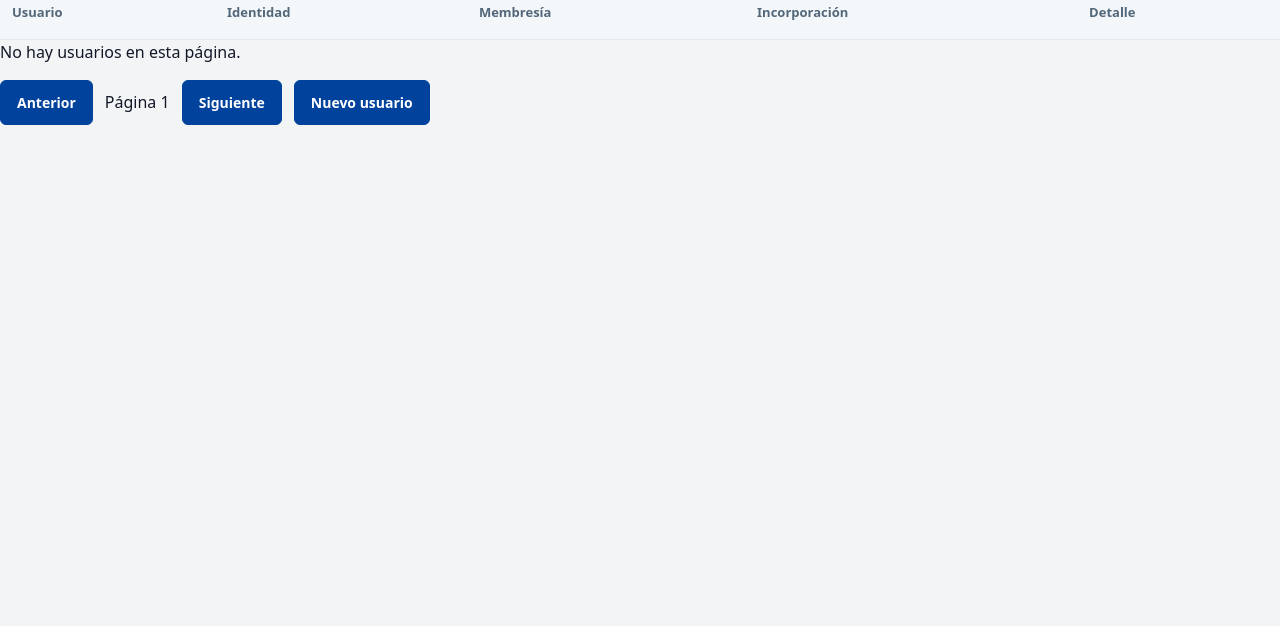
it: discards a late secret when the page was hidden during the command
Step 1. Click the button "Nuevo usuario" → (362, 102), box left=294, top=80, right=430, bottom=125
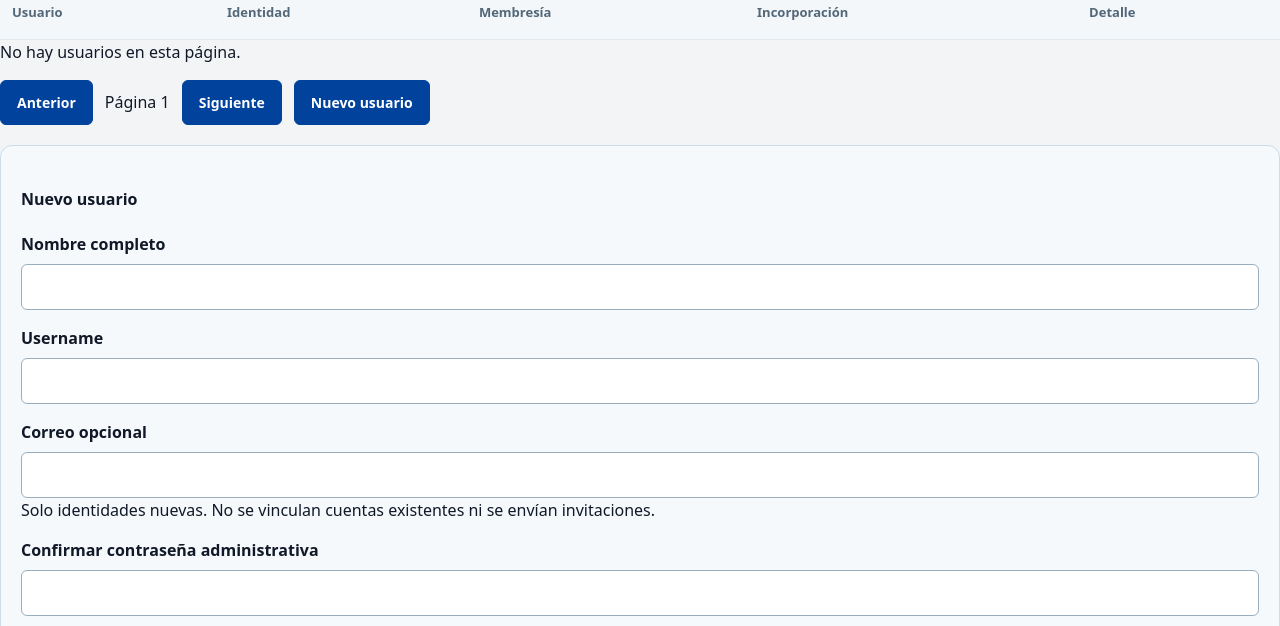
Step 2. Type "Persona nueva" into the field labelled "Nombre completo" → (640, 287), box left=21, top=264, right=1259, bottom=310
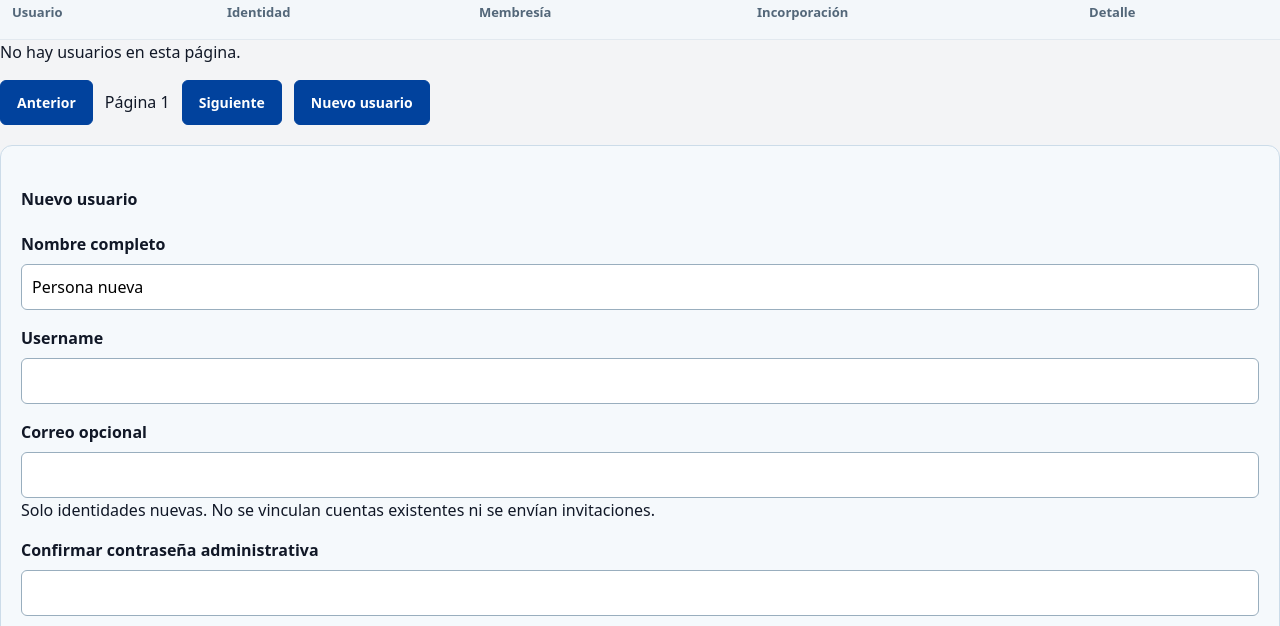
Step 3. Type "nuevo" into the field labelled "Username" → (640, 381), box left=21, top=358, right=1259, bottom=404
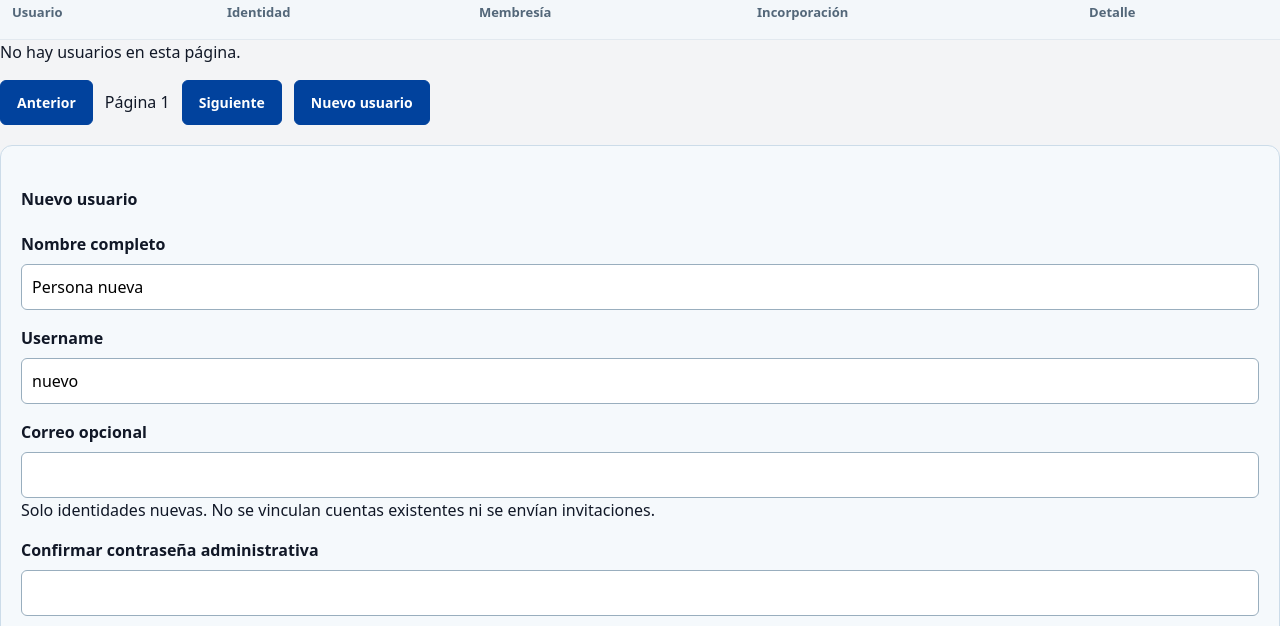
Step 4. Type "Fresh-admin-46!" into the password field labelled "Confirmar contraseña administrativa" → (640, 593), box left=21, top=570, right=1259, bottom=616
(page scrolled)
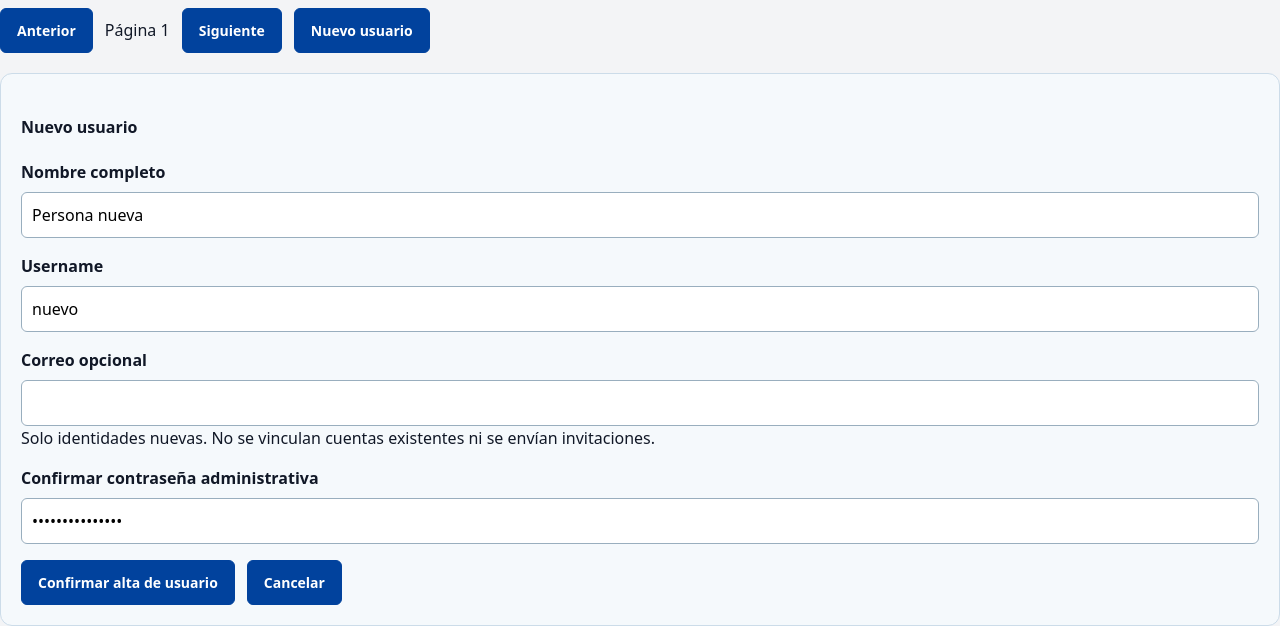
Step 5. Click the button "Confirmar alta de usuario" → (128, 583), box left=21, top=560, right=235, bottom=605
(page scrolled)
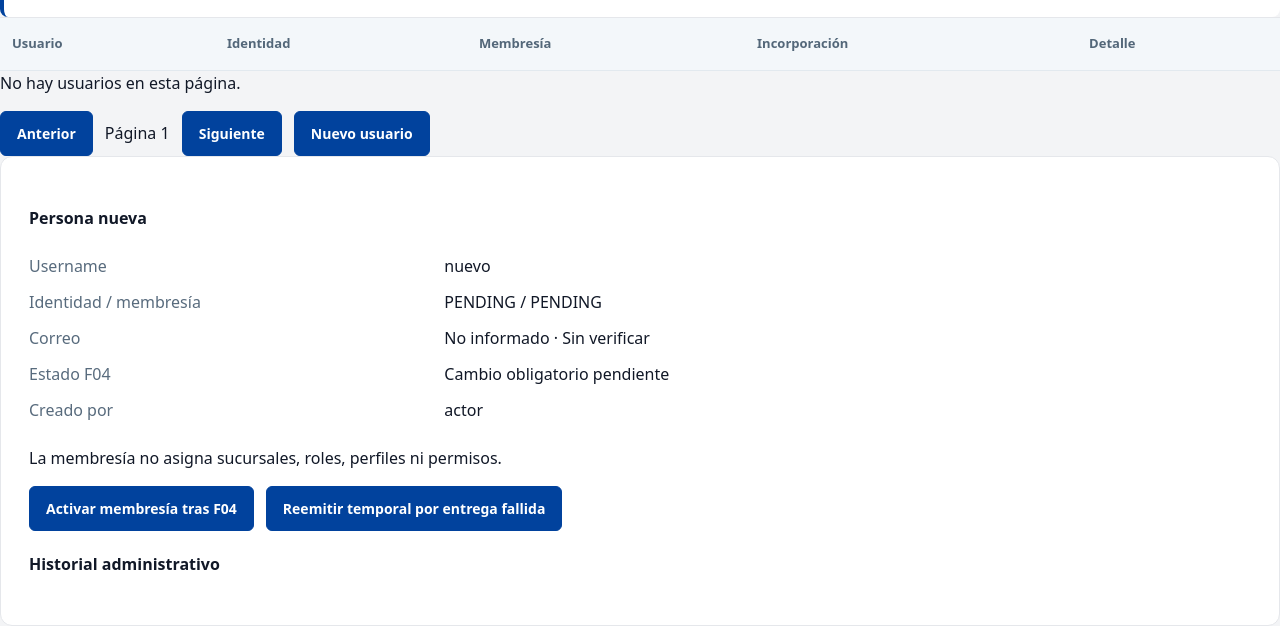
Expected: the element named "Detalle de membresía" is shown
